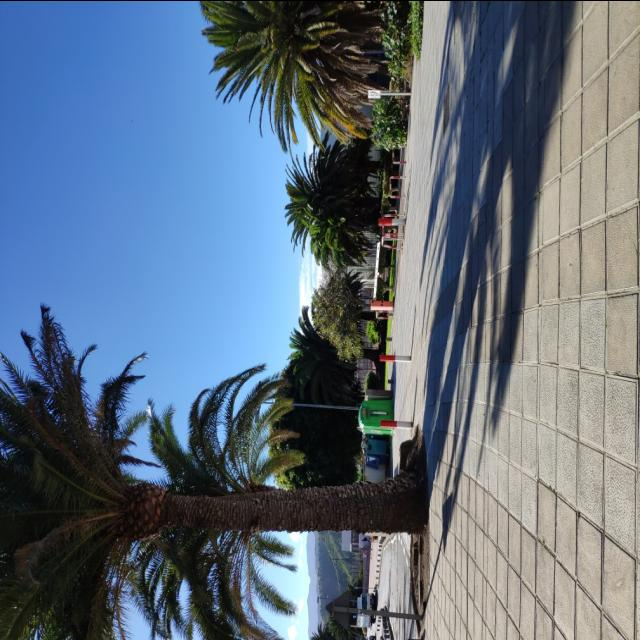Palm-Trees: (0, 299, 429, 640), (206, 0, 381, 145)
